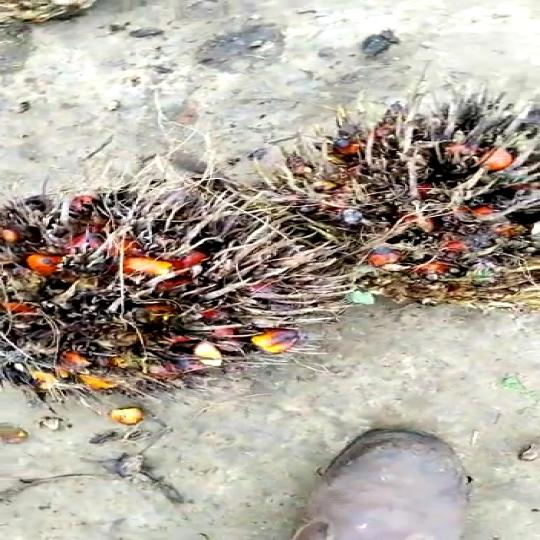terlalu masak: (0, 181, 353, 398), (234, 105, 540, 312)
